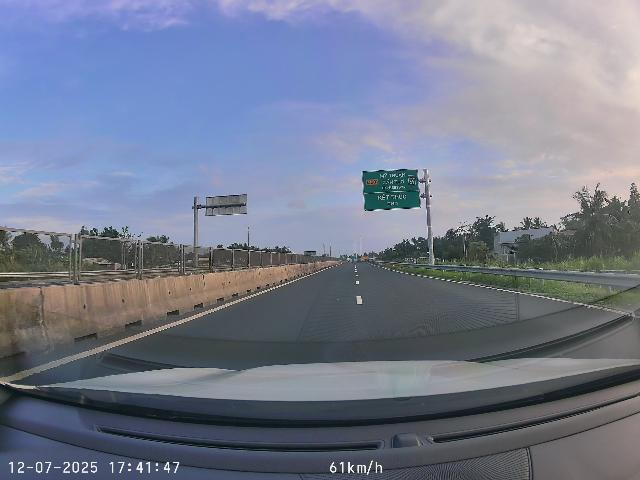438-ket-thuc-duong-cao-toc: (408, 175, 416, 186)
